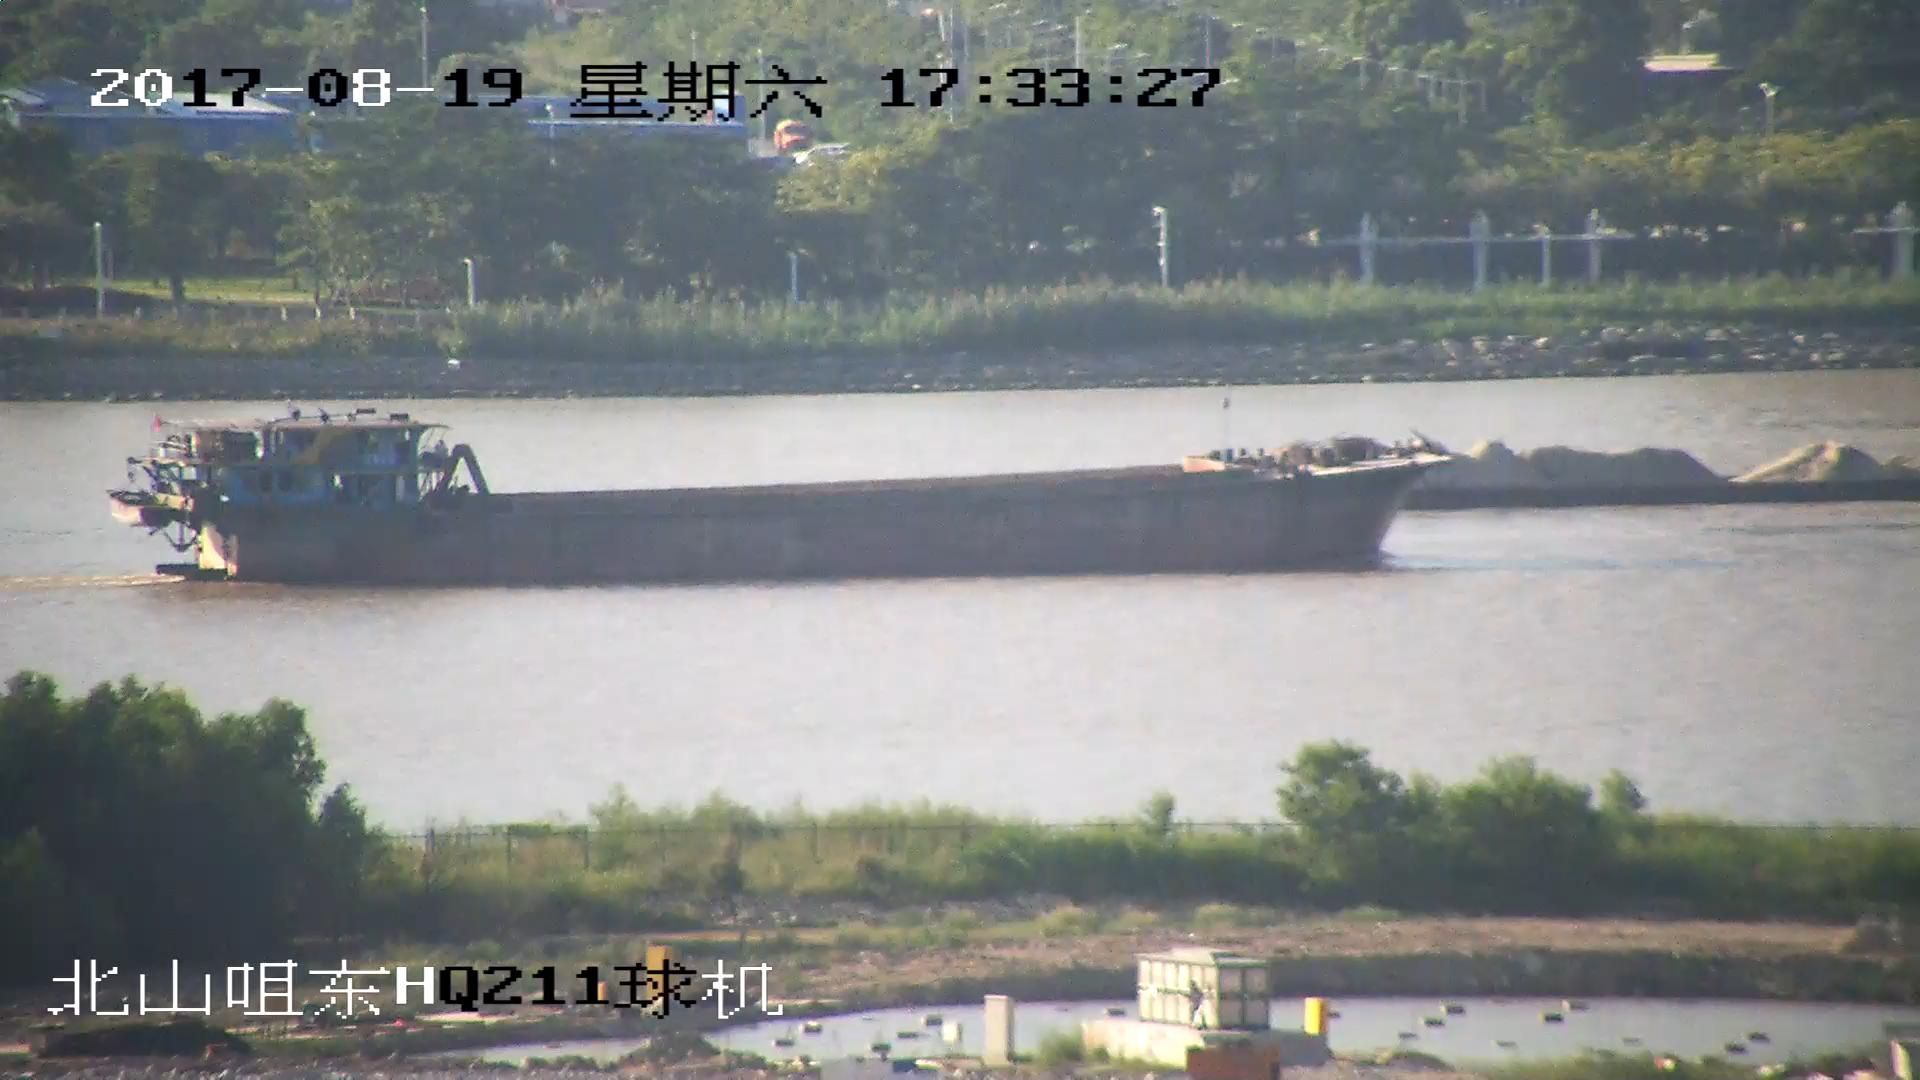bulk cargo carrier: (103, 416, 1449, 584)
ore carrier: (1398, 443, 1920, 508)
